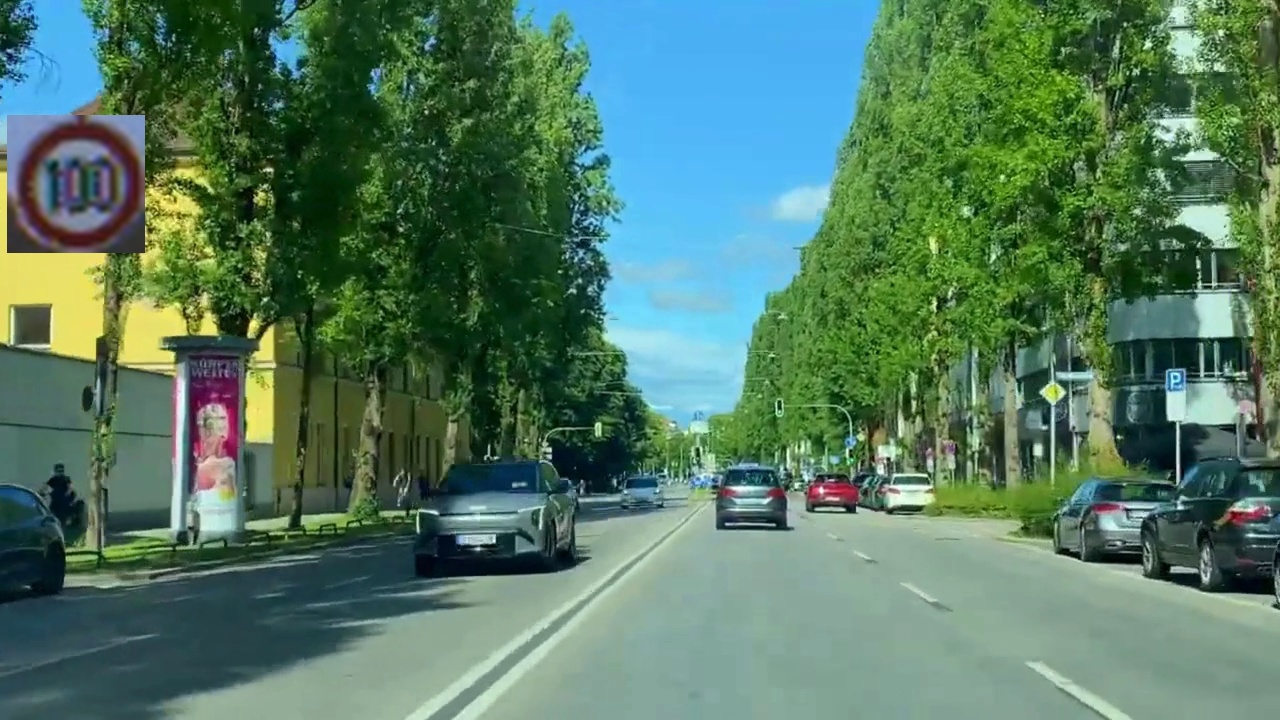Speed 100: (7, 115, 145, 253)
